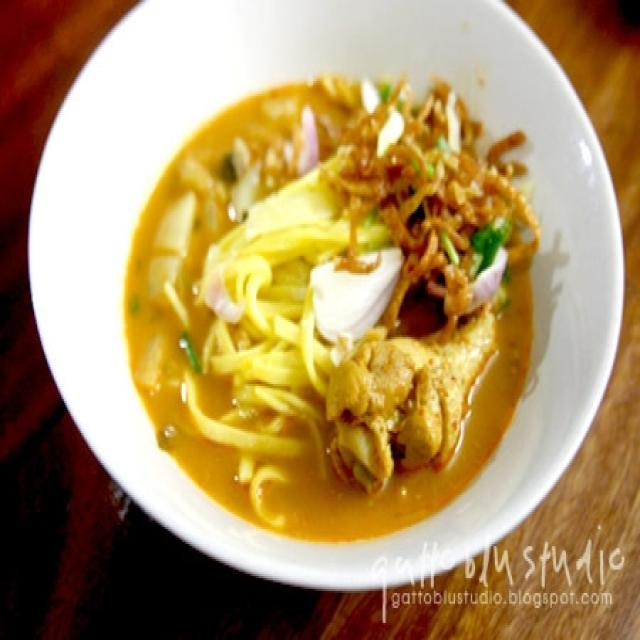面条主食: (7, 2, 627, 608)
